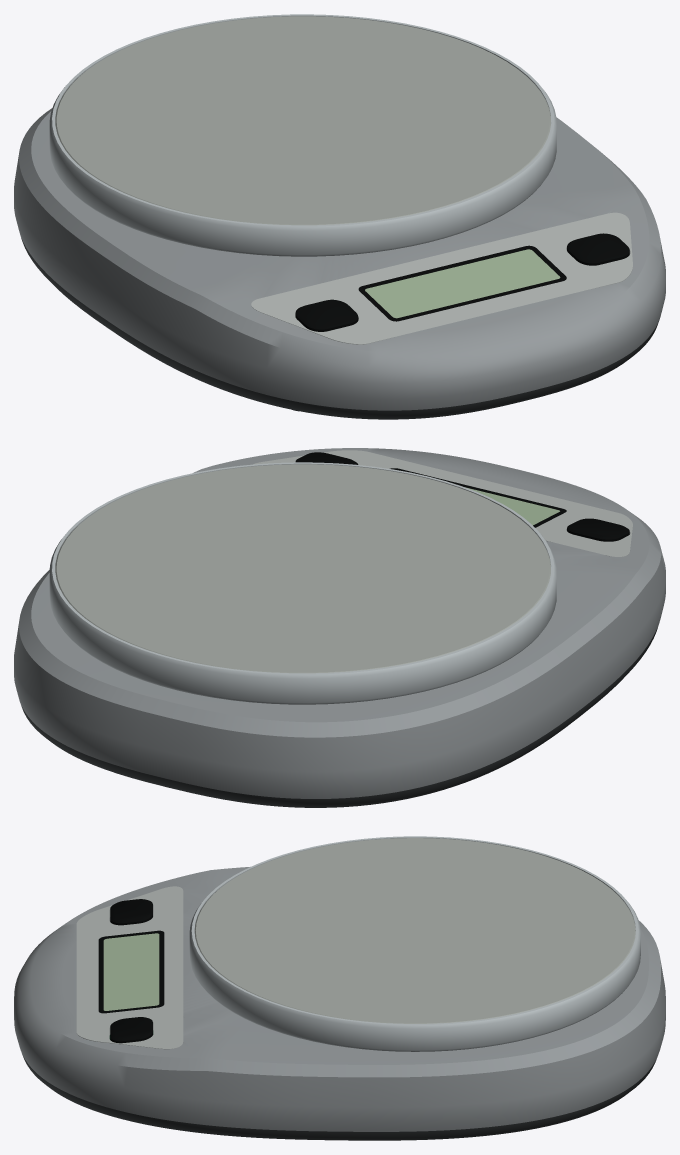
The picture shows the model from 3 angles, top to bottom: view 1: azimuth 30°, elevation 25°; view 2: azimuth 150°, elevation 25°; view 3: azimuth 270°, elevation 25°; orthographic projection. The views are drawn at different scales.
Visible parts, largest first — view 1: part_000_Weighing_surface_disk, part_001_Upper_housing_shell, part_018_Reflective_platform_rim, part_044_Control_face_insert, part_041_Display_protective_window, part_002_Underside_shell, part_042_Display_perimeter_gasket, part_034_Left_control_cap, part_014_Right_control_cap; view 2: part_000_Weighing_surface_disk, part_001_Upper_housing_shell, part_018_Reflective_platform_rim, part_002_Underside_shell, part_044_Control_face_insert, part_034_Left_control_cap, part_041_Display_protective_window, part_042_Display_perimeter_gasket; view 3: part_000_Weighing_surface_disk, part_001_Upper_housing_shell, part_018_Reflective_platform_rim, part_044_Control_face_insert, part_002_Underside_shell, part_041_Display_protective_window, part_042_Display_perimeter_gasket, part_034_Left_control_cap, part_014_Right_control_cap.
Boxes of the visible parts, <box> form: part_000_Weighing_surface_disk: <box>55,16,550,225</box>; part_001_Upper_housing_shell: <box>14,108,665,410</box>; part_018_Reflective_platform_rim: <box>49,14,556,256</box>; part_044_Control_face_insert: <box>251,212,632,344</box>; part_041_Display_protective_window: <box>365,249,560,318</box>; part_002_Underside_shell: <box>21,238,659,419</box>; part_042_Display_perimeter_gasket: <box>358,245,566,321</box>; part_034_Left_control_cap: <box>295,299,358,331</box>; part_014_Right_control_cap: <box>567,233,629,265</box>; part_000_Weighing_surface_disk: <box>55,464,550,673</box>; part_001_Upper_housing_shell: <box>14,448,665,798</box>; part_018_Reflective_platform_rim: <box>49,462,556,704</box>; part_002_Underside_shell: <box>21,626,658,807</box>; part_044_Control_face_insert: <box>253,450,632,556</box>; part_034_Left_control_cap: <box>567,518,629,541</box>; part_041_Display_protective_window: <box>465,487,559,525</box>; part_042_Display_perimeter_gasket: <box>390,468,566,527</box>; part_000_Weighing_surface_disk: <box>194,838,635,1023</box>; part_001_Upper_housing_shell: <box>14,866,665,1131</box>; part_018_Reflective_platform_rim: <box>189,836,640,1051</box>; part_044_Control_face_insert: <box>76,886,183,1049</box>; part_002_Underside_shell: <box>22,1054,656,1140</box>; part_041_Display_protective_window: <box>103,933,159,1010</box>; part_042_Display_perimeter_gasket: <box>98,930,164,1013</box>; part_034_Left_control_cap: <box>110,899,152,925</box>; part_014_Right_control_cap: <box>110,1017,152,1043</box>.
Size of the model in its own units: 0.1604 by 0.0418 by 0.208.
